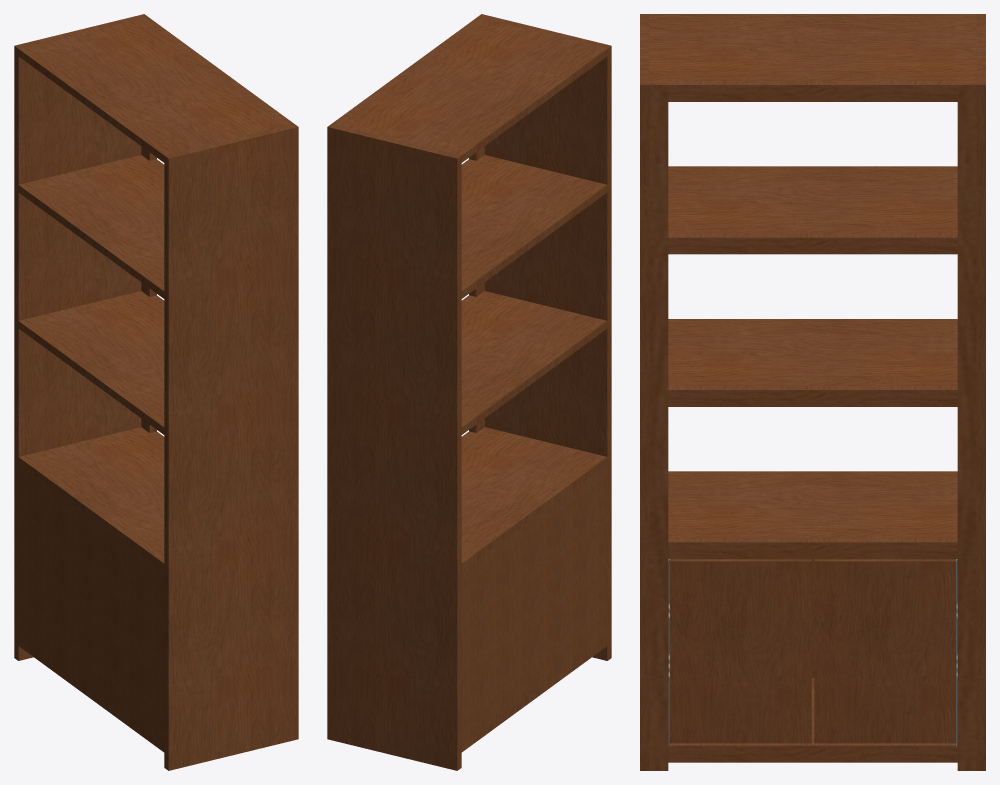
Rendered from shelf.glb.
The picture shows the model from 3 angles, left to right: view 1: azimuth 30°, elevation 25°; view 2: azimuth 150°, elevation 25°; view 3: azimuth 270°, elevation 25°; orthographic projection. The views are drawn at different scales.
Visible parts, largest first — view 1: Component#1.004, Component#1.005, Component#7.001, Component#3.013, Component#3.010, Component#3.011, Component#3.012, Component#3.014, Component#4.013; view 2: Component#1.005, Component#1.004, Component#7.001, Component#3.013, Component#3.010, Component#3.011, Component#3.012, Component#3.014, Component#4.013; view 3: Component#6.004, Component#6.005, Component#3.013, Component#3.010, Component#3.012, Component#3.011, Component#2.004, Component#2.005, Component#1.004, Component#1.005, Component#4.010, Component#4.012 (+3 smaller).
Part boxes in pixels (x1,y1,x2,y2): Component#1.004: (164,124,298,770); Component#1.005: (14,14,147,660); Component#7.001: (18,465,164,744); Component#3.013: (18,19,286,162); Component#3.010: (18,427,164,570); Component#3.011: (18,291,164,434); Component#3.012: (18,155,164,298); Component#3.014: (18,639,164,752); Component#4.013: (150,23,285,119); Component#1.005: (327,124,461,770); Component#1.004: (478,14,611,660); Component#7.001: (461,465,607,744); Component#3.013: (339,19,607,162); Component#3.010: (461,427,607,570); Component#3.011: (461,291,607,434); Component#3.012: (461,155,607,298); Component#3.014: (461,639,607,752); Component#4.013: (340,23,475,119); Component#6.004: (670,559,811,743); Component#6.005: (814,559,955,743); Component#3.013: (649,14,976,80); Component#3.010: (668,471,957,538); Component#3.012: (668,166,957,233); Component#3.011: (668,319,957,385); Component#2.004: (649,81,668,770); Component#2.005: (957,81,976,770); Component#1.004: (640,14,649,770); Component#1.005: (976,14,985,770); Component#4.010: (668,538,957,559); Component#4.012: (668,233,957,254).
Size of the model in its own units: 0.4628 by 2.06 by 0.9398.
2 materials, 1 textured.
